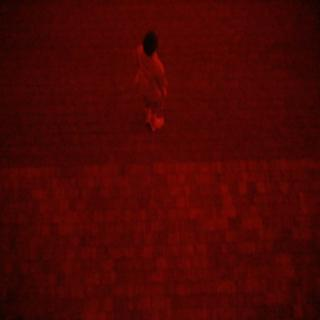person: (127, 19, 175, 132)
